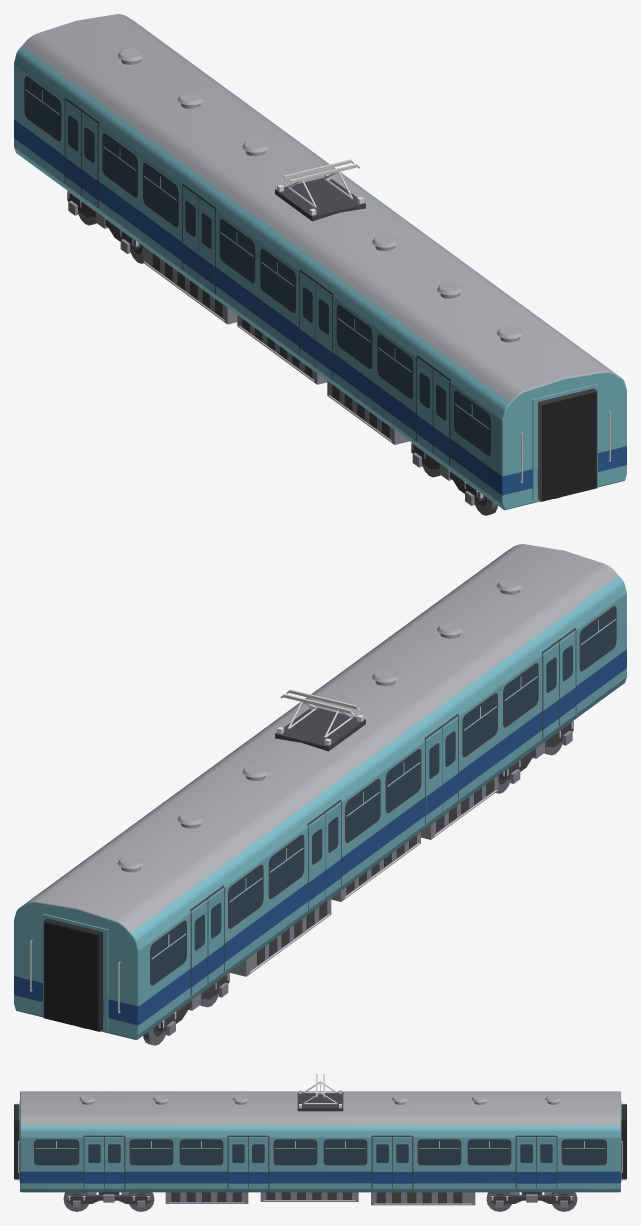
The model's file is 327_close.fbx.
3 views of the same model, one above another, from view 1: azimuth 30°, elevation 25°; view 2: azimuth 150°, elevation 25°; view 3: azimuth 270°, elevation 25° (orthographic). The views are drawn at different scales.
Visible parts, largest first — view 1: 327_close; view 2: 327_close; view 3: 327_close.
Boxes of the visible parts, bbox=[...] form: 327_close: bbox=[14, 14, 626, 515]; 327_close: bbox=[14, 544, 626, 1045]; 327_close: bbox=[14, 1074, 626, 1211].
Bounding box in the file's own units: 2.93 × 4.2 × 20.
